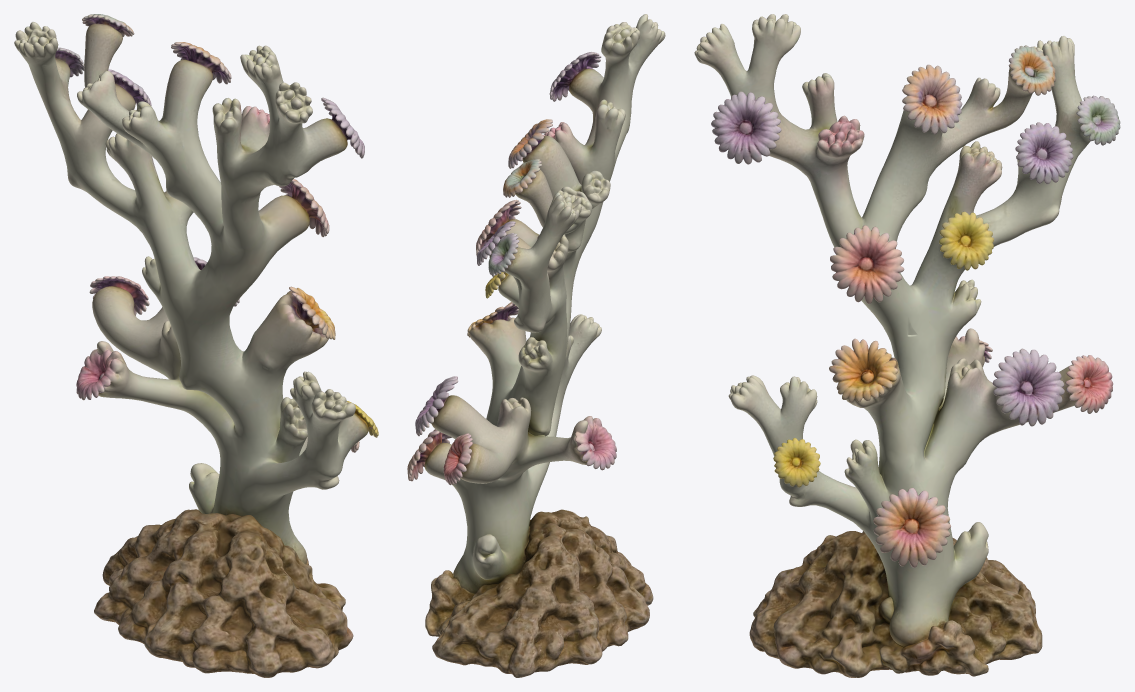
3 views of the same model, side by side, from view 1: azimuth 30°, elevation 25°; view 2: azimuth 150°, elevation 25°; view 3: azimuth 270°, elevation 25° (orthographic). The views are drawn at different scales.
Size of the model in its own units: 0.4319 by 0.9997 by 0.6315.
Materials: 1 (1 with a texture image).
